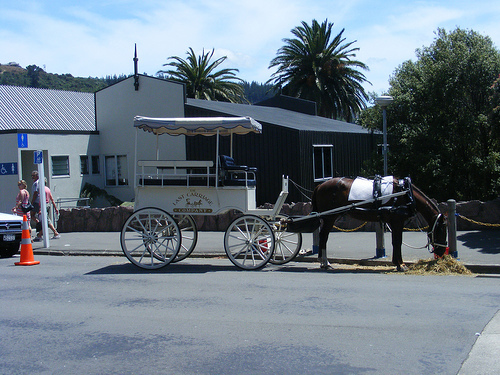horse: (310, 175, 447, 273)
